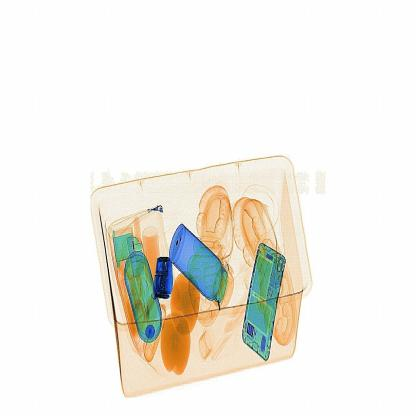scissors: (145, 246, 185, 306)
